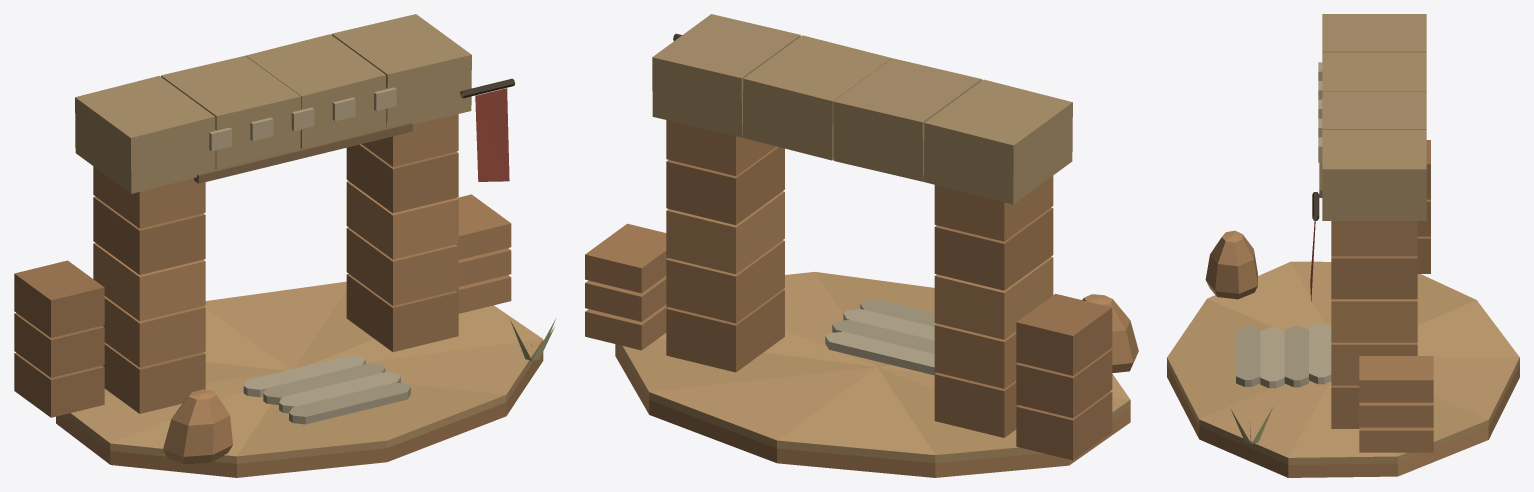
3 views of the same model, side by side, from view 1: azimuth 30°, elevation 25°; view 2: azimuth 150°, elevation 25°; view 3: azimuth 270°, elevation 25° (orthographic). The views are drawn at different scales.
Parts seen in each view (by area): view 1: S07_石门古驿; view 2: S07_石门古驿; view 3: S07_石门古驿.
Boxes of the visible parts, left/top/right/bottom form: S07_石门古驿: left=14, top=14, right=555, bottom=477; S07_石门古驿: left=585, top=14, right=1138, bottom=477; S07_石门古驿: left=1167, top=14, right=1519, bottom=477.
Bounding box in the file's own units: 4.46 × 2.84 × 3.19.
